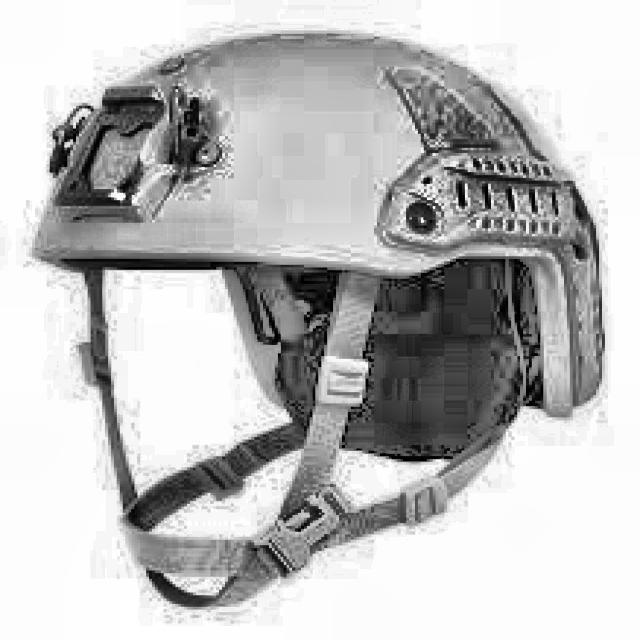Helmet: (24, 9, 616, 617)
